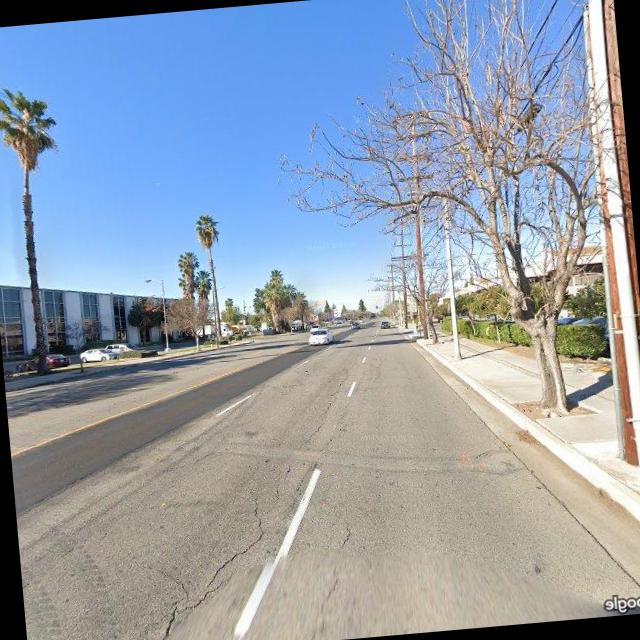crack: (139, 492, 277, 640), (308, 509, 362, 628), (294, 361, 367, 448)
